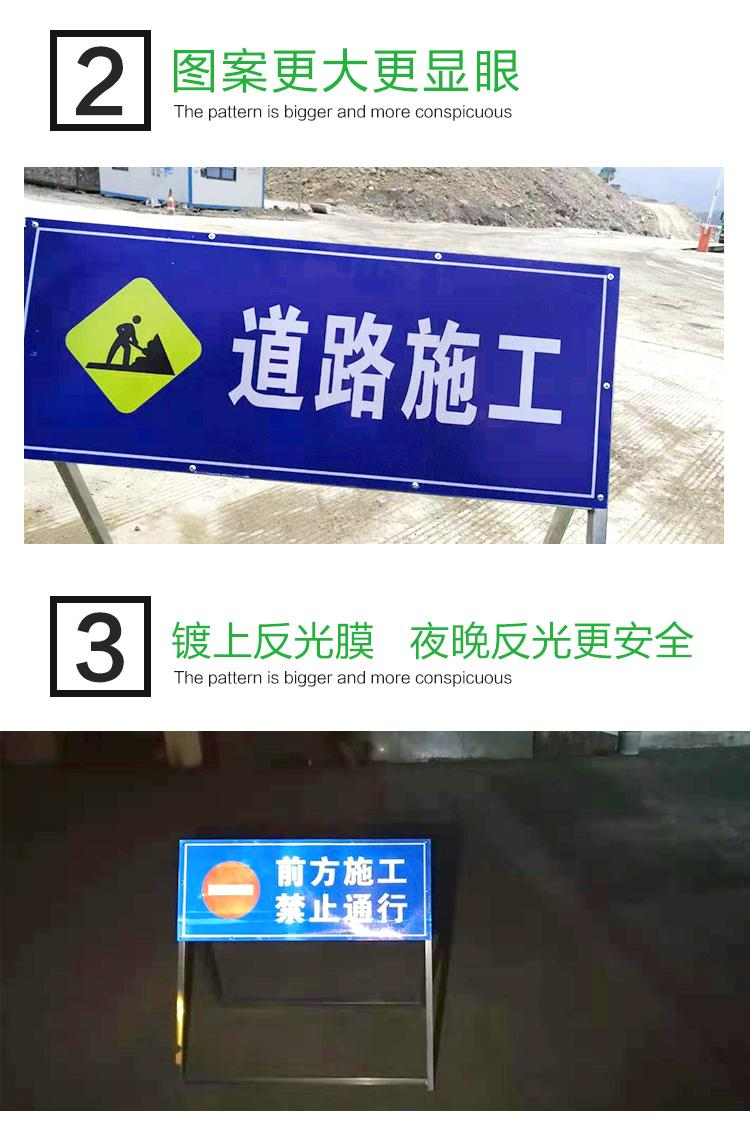sign: (35, 221, 617, 500), (181, 843, 433, 938)
